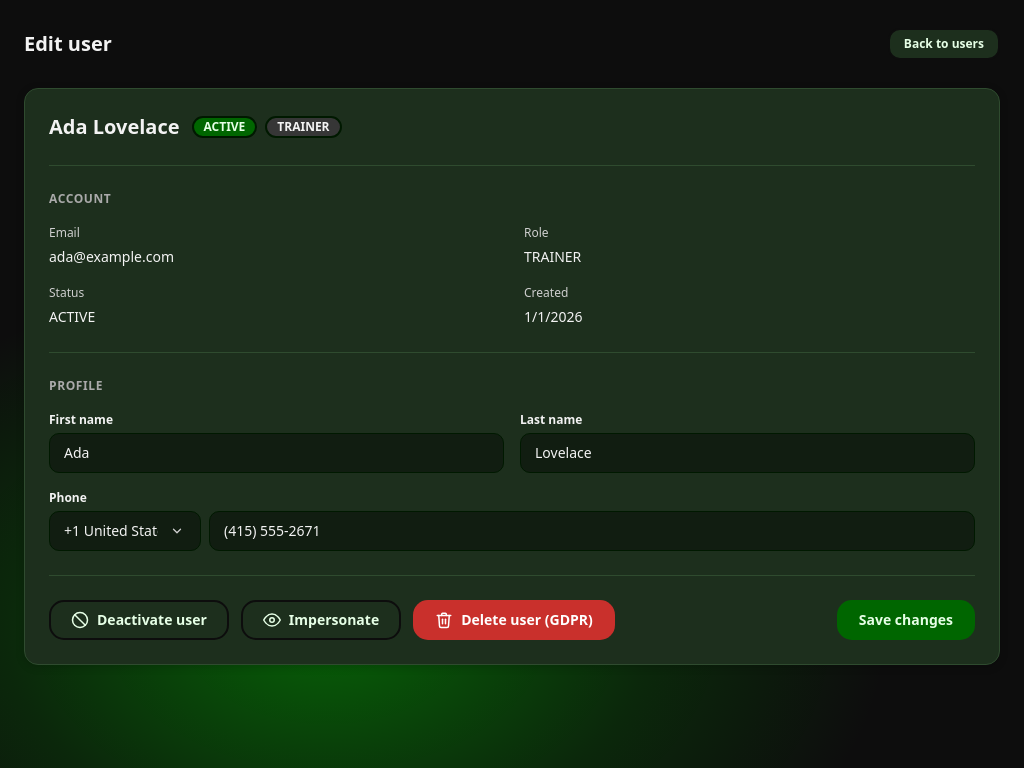
UserDetailPage › opens DeactivateConfirmModal in "deactivate" mode for an ACTIVE user
Expected: the heading "Ada Lovelace" is shown, [49, 113, 180, 141]
Click the button "Deactivate user": coordinates (139, 620) [49, 600, 229, 640]
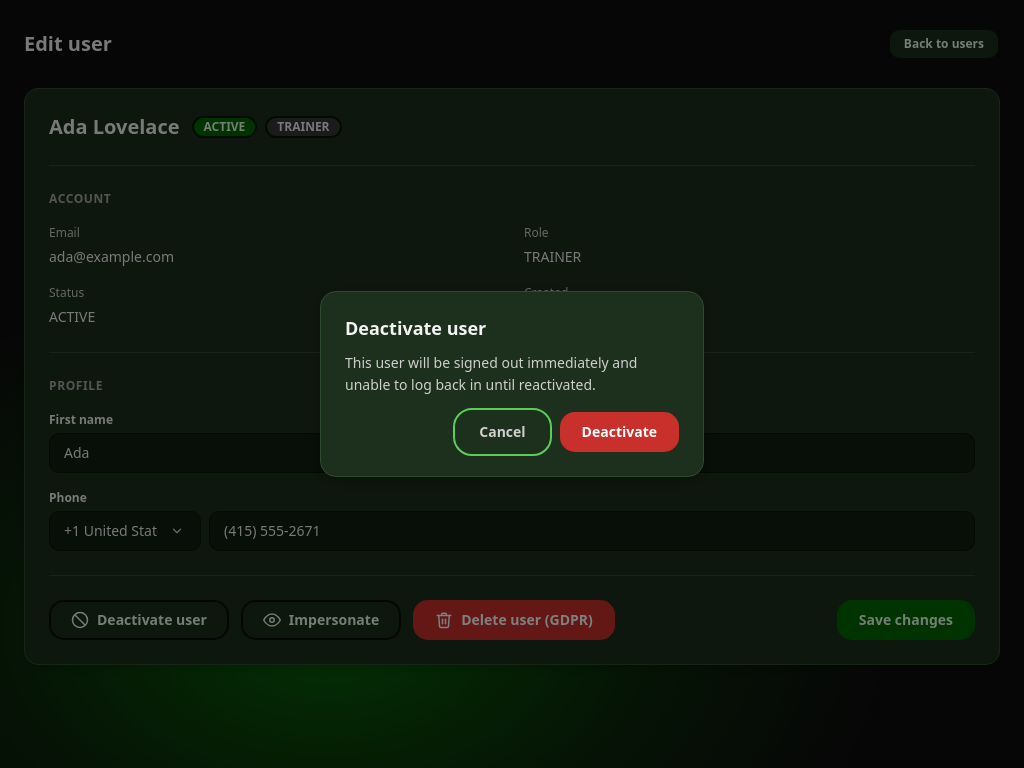
Expected: the dialog "Deactivate user" is shown, [320, 291, 704, 477]
